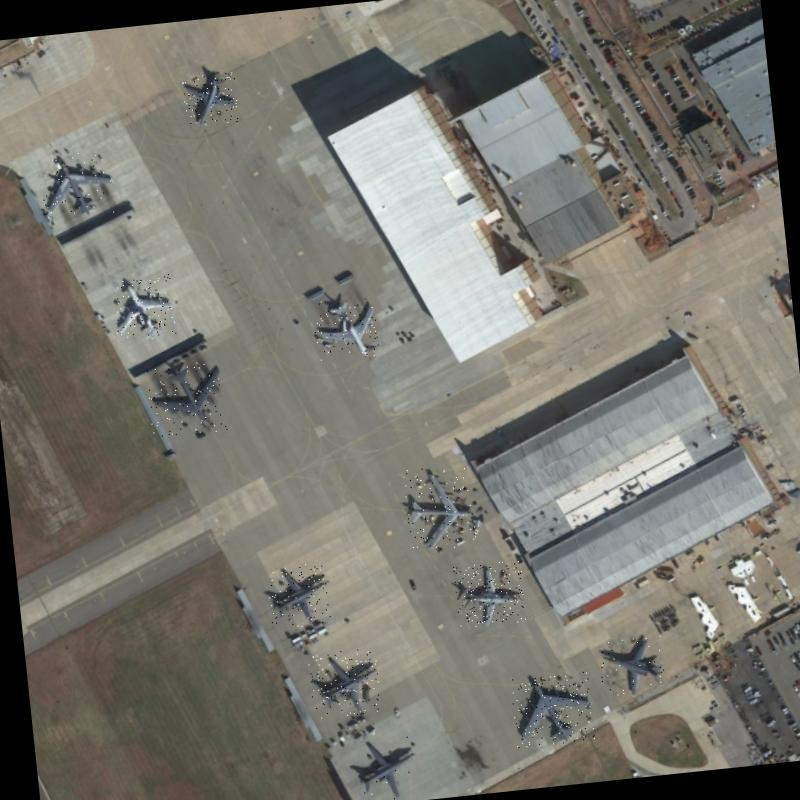A10: (307, 647, 382, 721), (452, 559, 526, 628), (350, 732, 419, 800), (266, 562, 331, 630), (597, 635, 666, 697), (181, 70, 239, 126)
A7: (311, 294, 379, 362), (111, 274, 176, 342)
A8: (403, 463, 478, 552), (510, 671, 594, 748), (145, 360, 227, 438), (38, 148, 116, 220)
